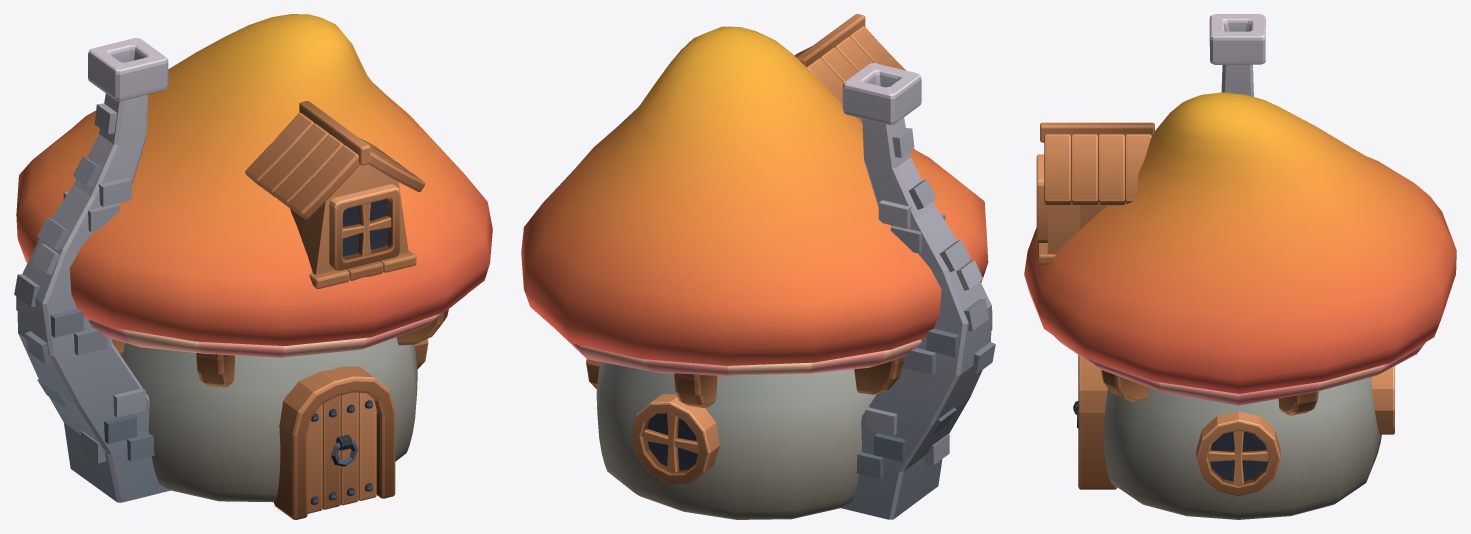
The model's file is mt_house01.fbx.
3 views of the same model, side by side, from view 1: azimuth 30°, elevation 25°; view 2: azimuth 150°, elevation 25°; view 3: azimuth 270°, elevation 25° (orthographic). The views are drawn at different scales.
Visible parts, largest first — view 1: h1; view 2: h1; view 3: h1.
Part boxes in pixels (bbox=[...]): h1: bbox=[14, 14, 492, 519]; h1: bbox=[521, 14, 995, 519]; h1: bbox=[1024, 14, 1456, 519].
Bounding box in the file's own units: 710 × 659 × 670.
